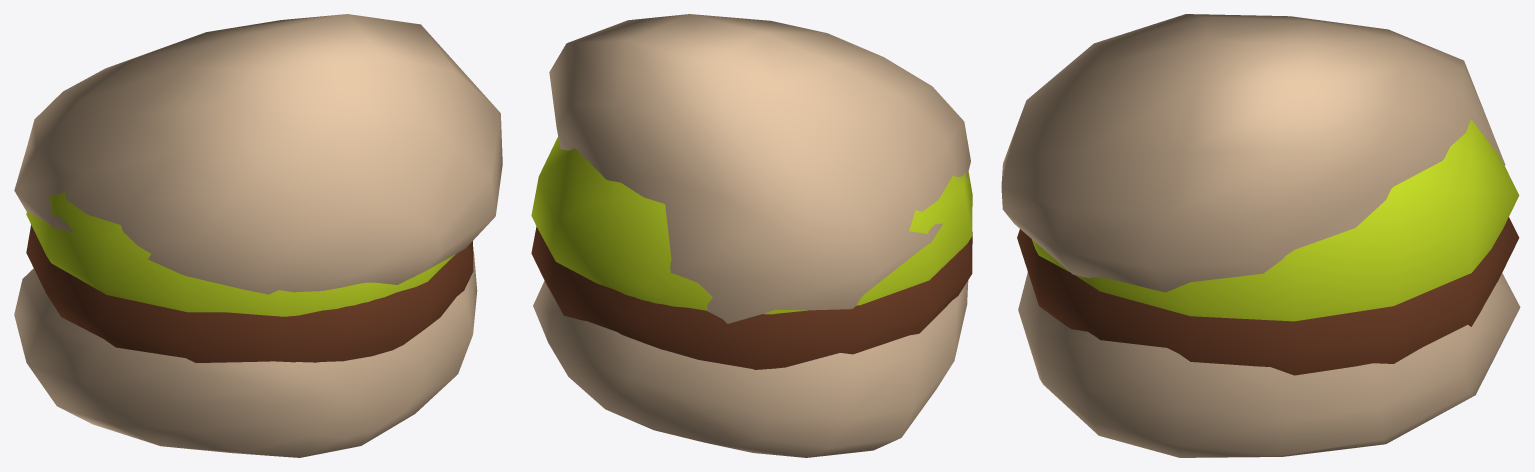
The model's file is ufo4damaged.obj.
The picture shows the model from 3 angles, left to right: view 1: azimuth 30°, elevation 25°; view 2: azimuth 150°, elevation 25°; view 3: azimuth 270°, elevation 25°; orthographic projection. The views are drawn at different scales.
Parts seen in each view (by area): view 1: Sphere01, Sphere02, Sphere03, Sphere04; view 2: Sphere01, Sphere02, Sphere04, Sphere03; view 3: Sphere01, Sphere02, Sphere04, Sphere03.
Boxes of the visible parts, x1,y1,x2,y2 form: Sphere01: (14, 14, 502, 294); Sphere02: (14, 251, 477, 457); Sphere03: (26, 225, 473, 362); Sphere04: (26, 192, 455, 316); Sphere01: (549, 14, 970, 323); Sphere02: (533, 280, 968, 457); Sphere04: (531, 136, 972, 314); Sphere03: (531, 226, 972, 369); Sphere01: (1001, 14, 1505, 292); Sphere02: (1018, 272, 1520, 457); Sphere04: (1031, 119, 1519, 321); Sphere03: (1017, 217, 1519, 375).
Size of the model in its own units: 47.23 by 41.31 by 47.71.
